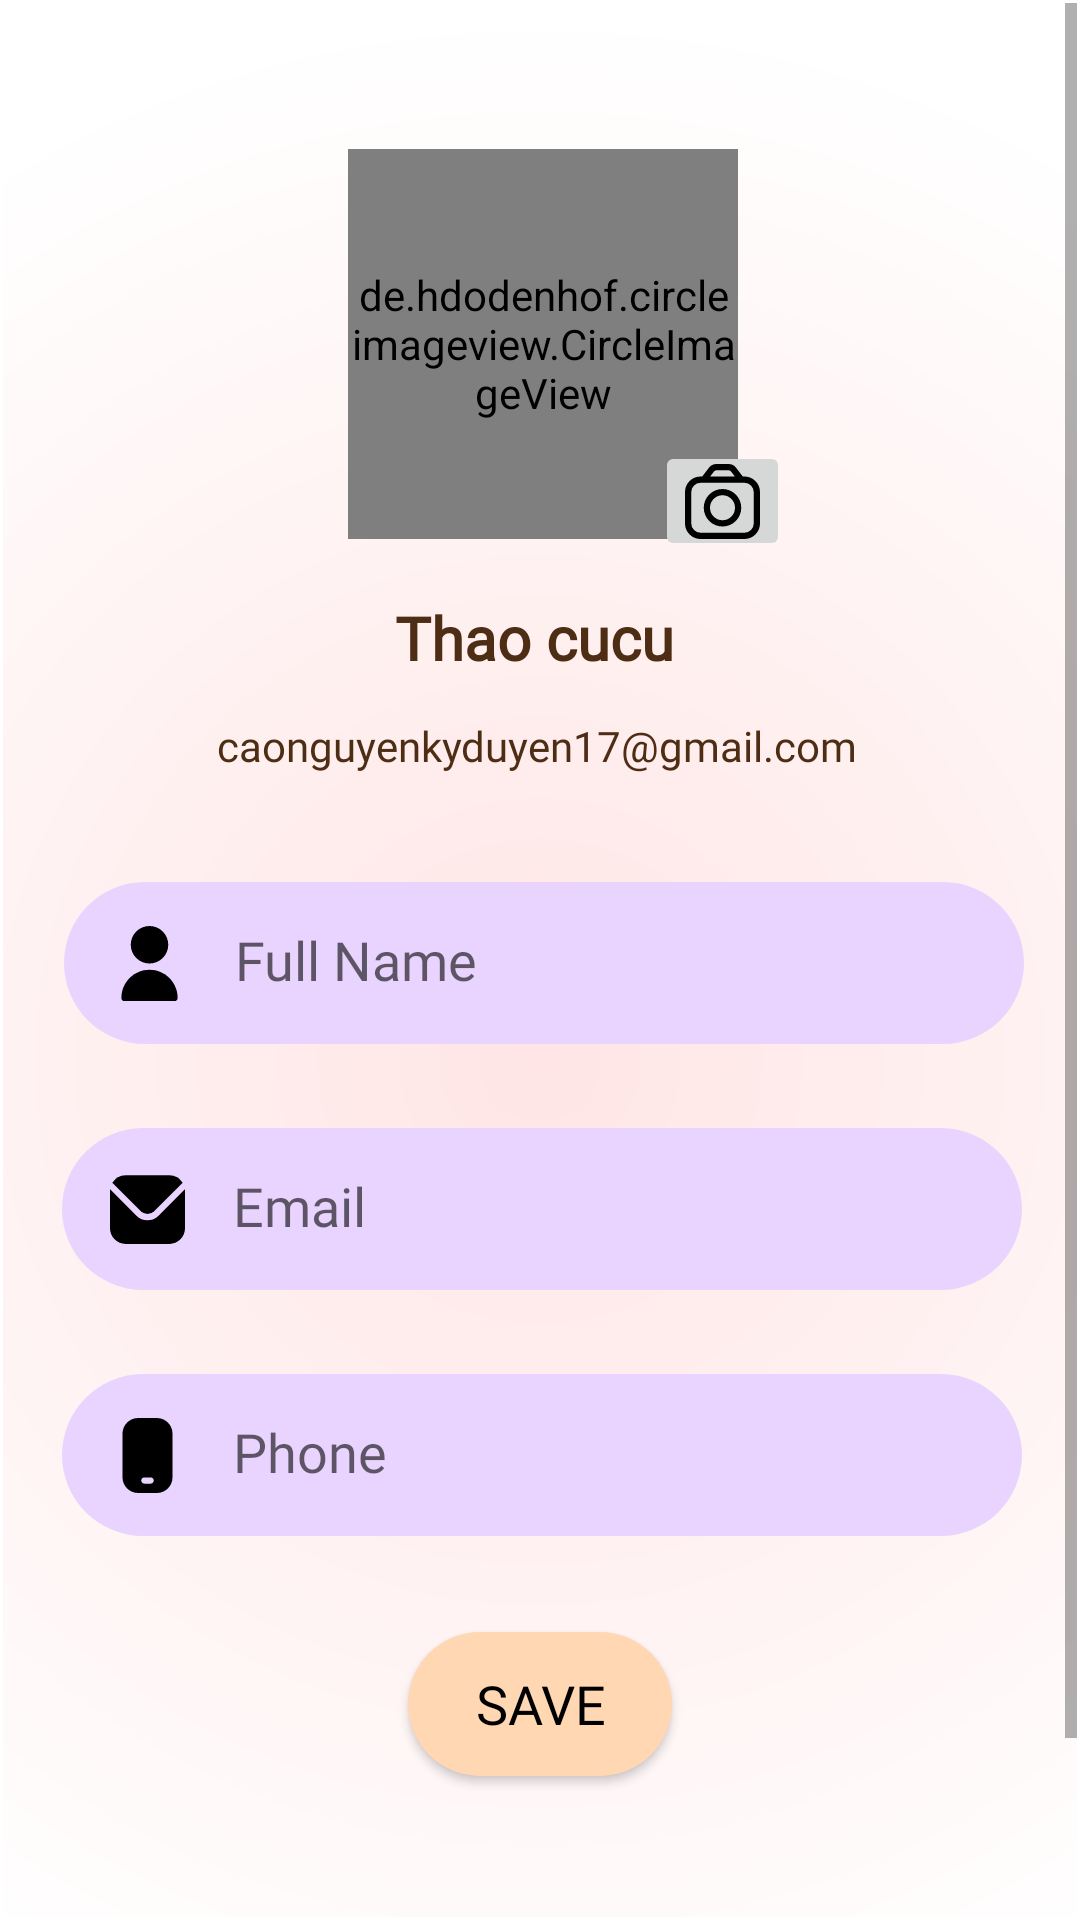

Named icons in this screenshot (1080x1920) and their centers, (x,y):
camera: (716,492)
